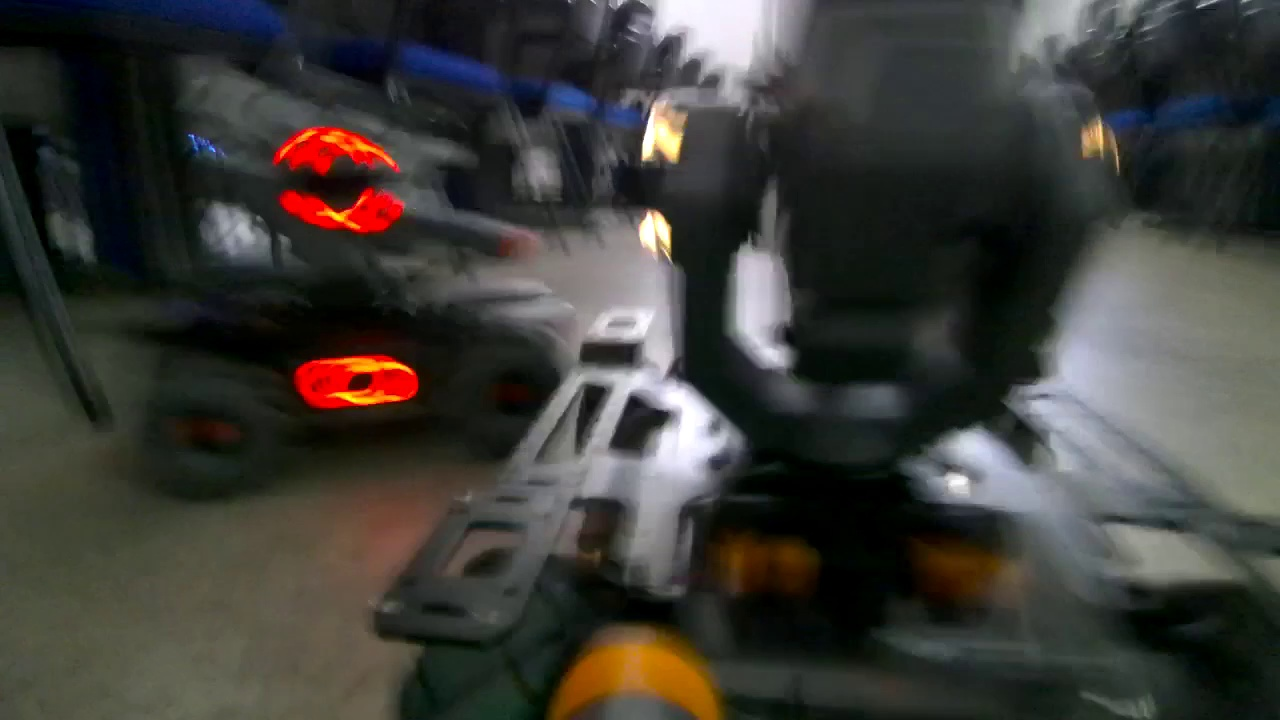robot: (332, 1, 1280, 720), (115, 70, 585, 496)
